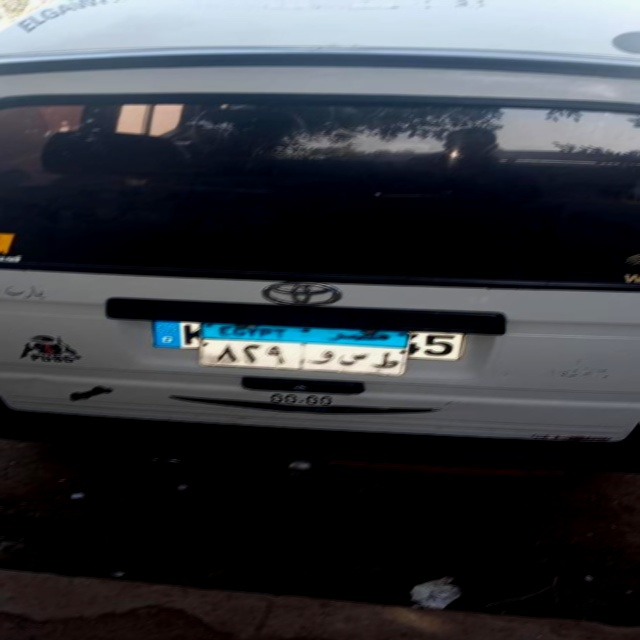License Plate: (196, 321, 412, 375)
